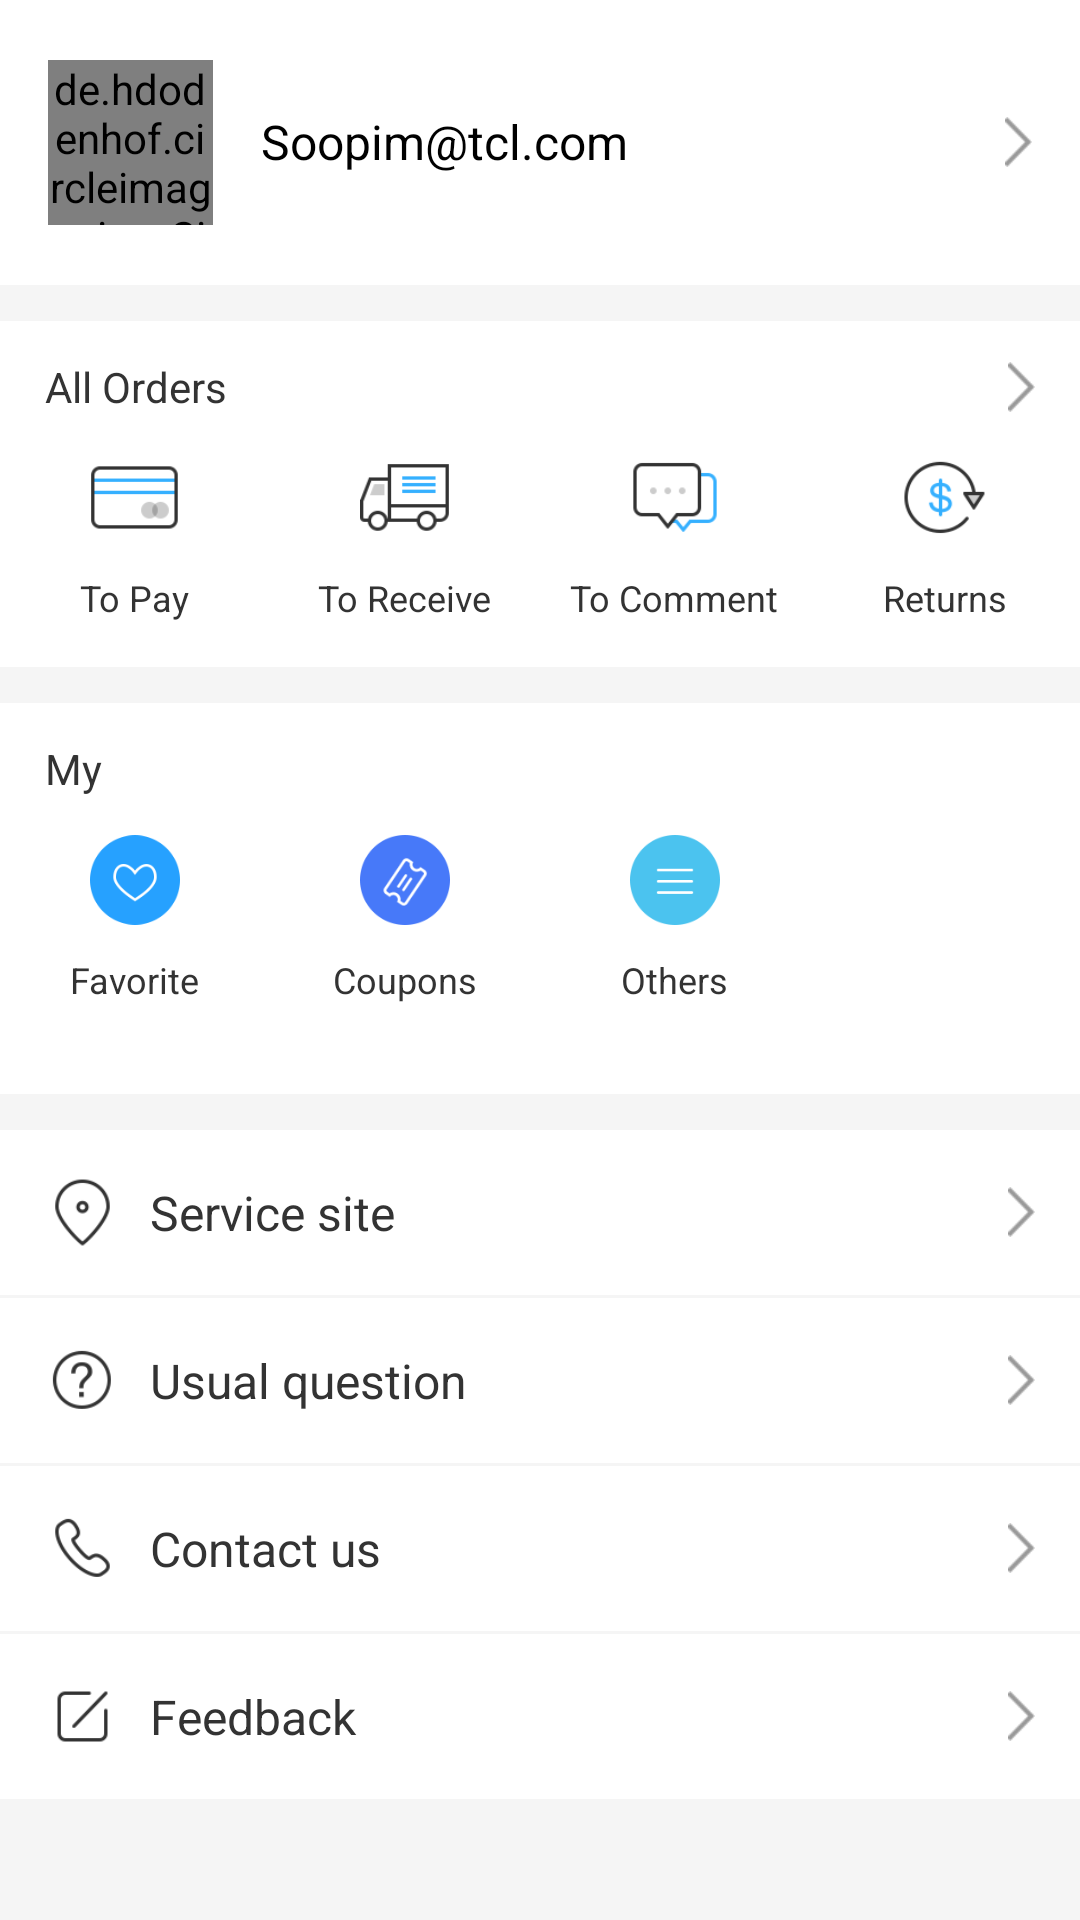

Point at icon controls on the screen. Image size 1080px×1920px, points as (x=x, y=y).
general next: (x=1018, y=142), (x=1021, y=1212), (x=1021, y=1380), (x=1021, y=1548), (x=1021, y=1716)
service comments: (x=675, y=497)
service contact: (x=82, y=1548)
service my other: (x=675, y=880)
service pay: (x=134, y=497)
service question: (x=82, y=1380)
service receive: (x=404, y=497)
